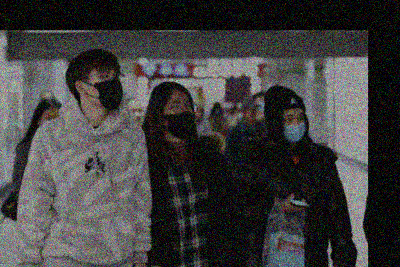with_mask: (87, 70, 125, 110), (165, 98, 195, 140), (284, 111, 306, 143)
without_mask: (129, 108, 146, 128)
